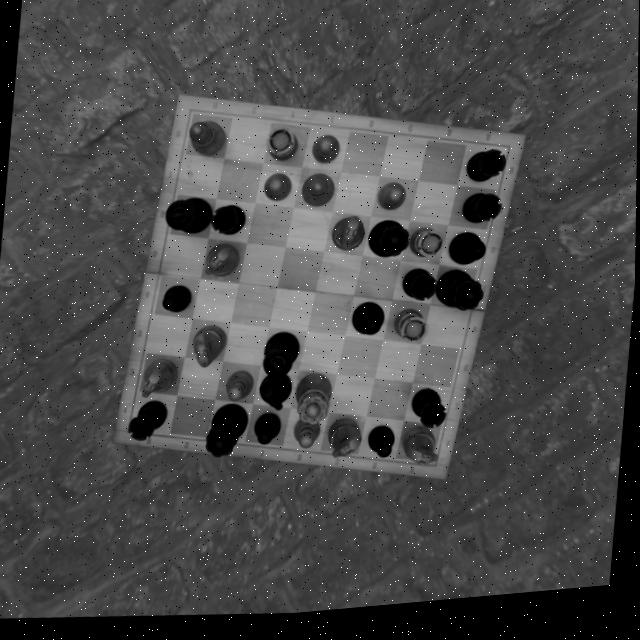chessboard: (136, 116, 513, 470)
